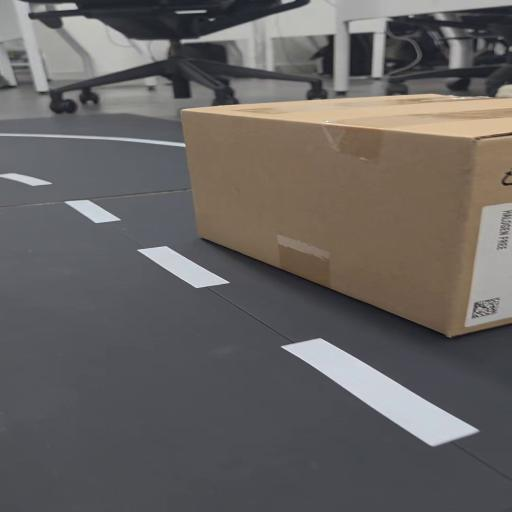Box: (175, 92, 512, 346)
